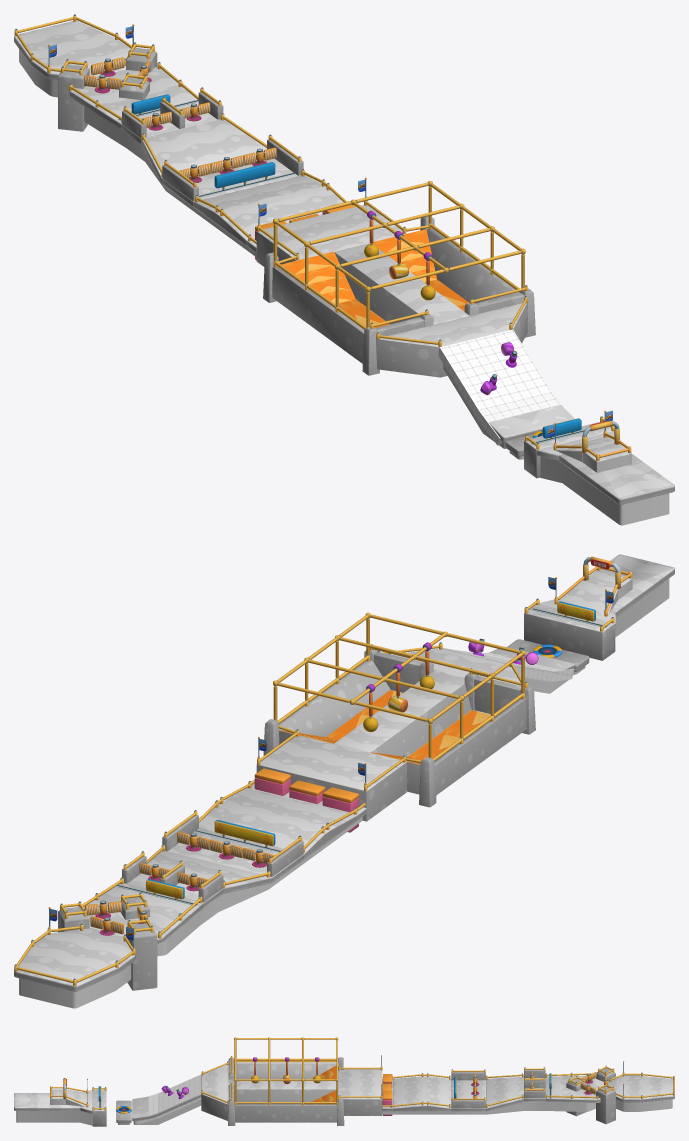
3 renders of one model, top to bottom at view 1: azimuth 30°, elevation 25°; view 2: azimuth 150°, elevation 25°; view 3: azimuth 270°, elevation 25°, orthographic. The views are drawn at different scales.
Parts seen in each view (by area): view 1: Level5Visuals, SlipperySurface, GoalPlatform, TreadMillWide (11), TreadMillWide (9), RailObstacleLarge2; view 2: Level5Visuals, GoalPlatform, TreadMillWide (3), SlipperySurface, RailObstacleLarge2, RisingPlatform.002, RisingPlatform, TreadMillWide (7); view 3: Level5Visuals, SlipperySurface, GoalPlatform, FenceLongLVL5 (10).001, RisingPlatform.002, TreadMillWide (11).
Part boxes in pixels (x1,y1,x2,y2): Level5Visuals: (14, 21, 674, 525); SlipperySurface: (438, 329, 560, 445); GoalPlatform: (555, 437, 631, 472); TreadMillWide (11): (281, 251, 344, 284); TreadMillWide (9): (372, 229, 431, 261); RailObstacleLarge2: (214, 162, 275, 190); Level5Visuals: (14, 554, 674, 1008); GoalPlatform: (558, 570, 632, 615); TreadMillWide (3): (407, 710, 490, 760); SlipperySurface: (442, 648, 574, 681); RailObstacleLarge2: (214, 820, 275, 848); RisingPlatform.002: (254, 768, 290, 795); RisingPlatform: (322, 787, 358, 832); TreadMillWide (7): (326, 690, 402, 740); Level5Visuals: (14, 1057, 674, 1126); SlipperySurface: (136, 1074, 201, 1124); GoalPlatform: (50, 1089, 87, 1106); FenceLongLVL5 (10).001: (236, 1058, 335, 1060); RisingPlatform.002: (383, 1090, 392, 1115); TreadMillWide (11): (321, 1065, 336, 1079).
Size of what is drawn, in the model's own units: 18.37 by 11.24 by 115.
